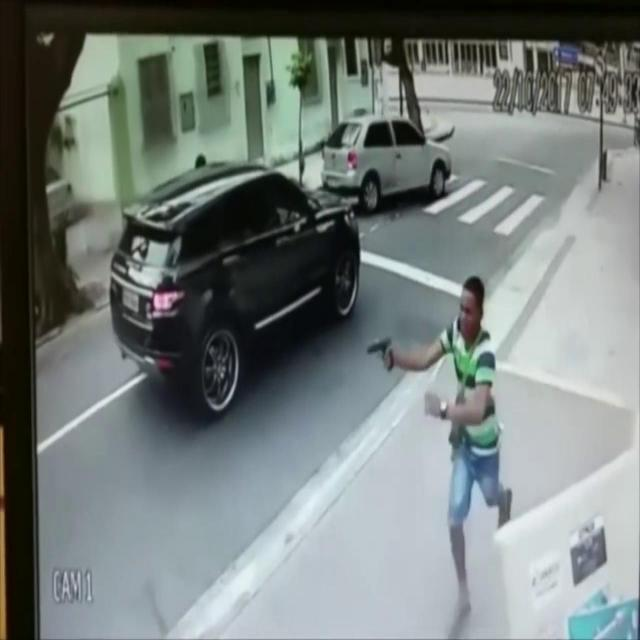weapon: (362, 323, 398, 383)
